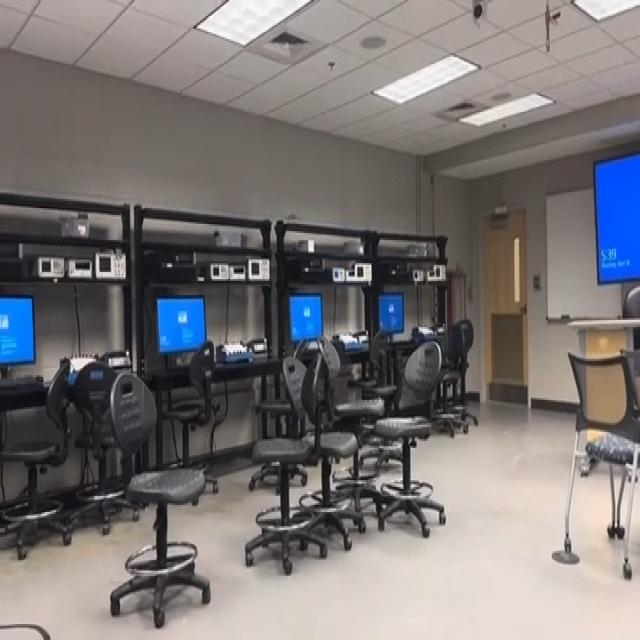drone: (279, 201, 307, 235)
